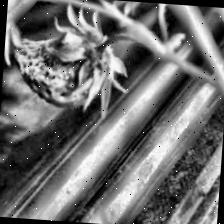Gray Mold: (5, 0, 133, 120)
